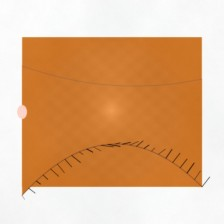pinguecula_lesion: (165, 96, 202, 126)
